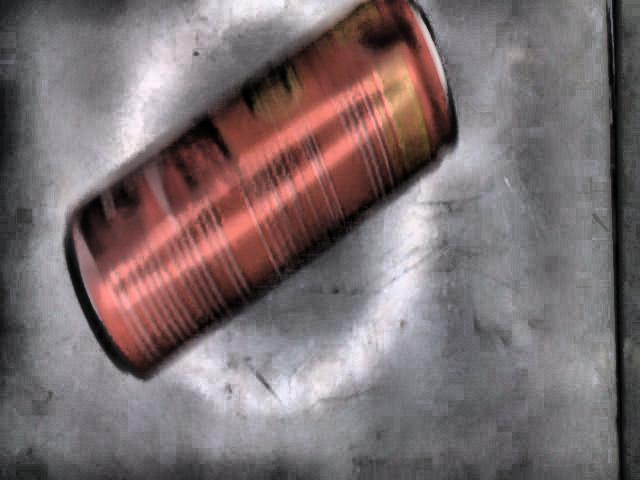Bottles: (66, 0, 459, 379)
